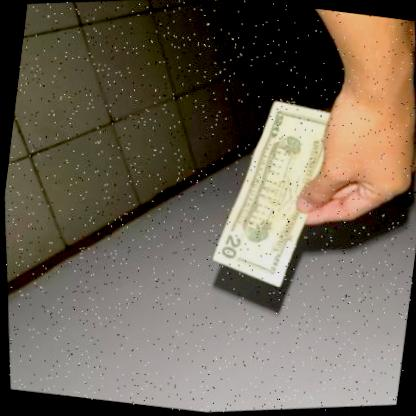twenty-back: (177, 79, 361, 309)
